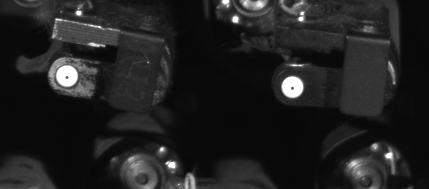fiber: (278, 71, 308, 103), (54, 62, 83, 92)
